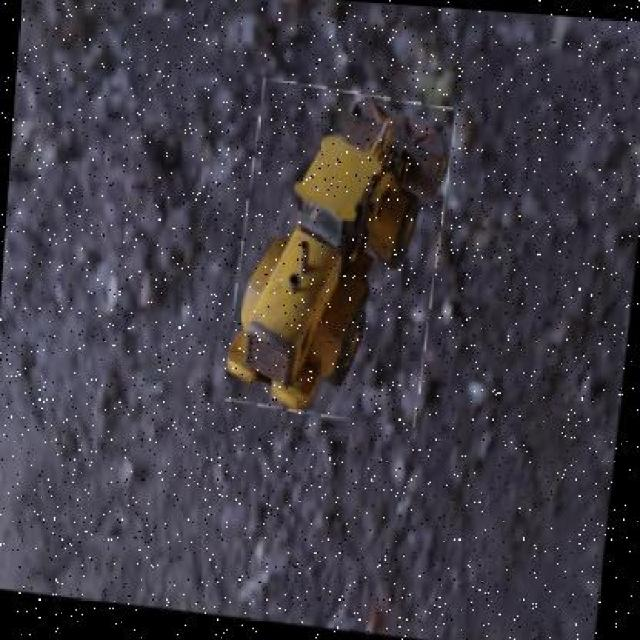buldozerpayloadergrader: (221, 88, 456, 417)
